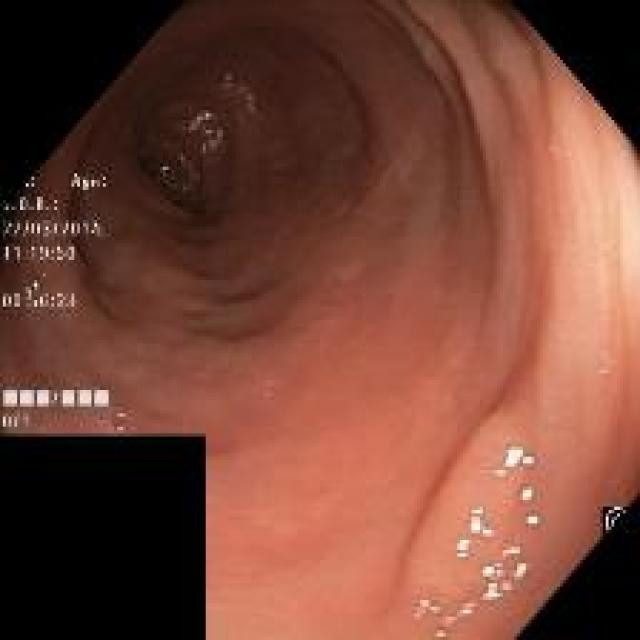Polyps: (404, 366, 529, 635)
